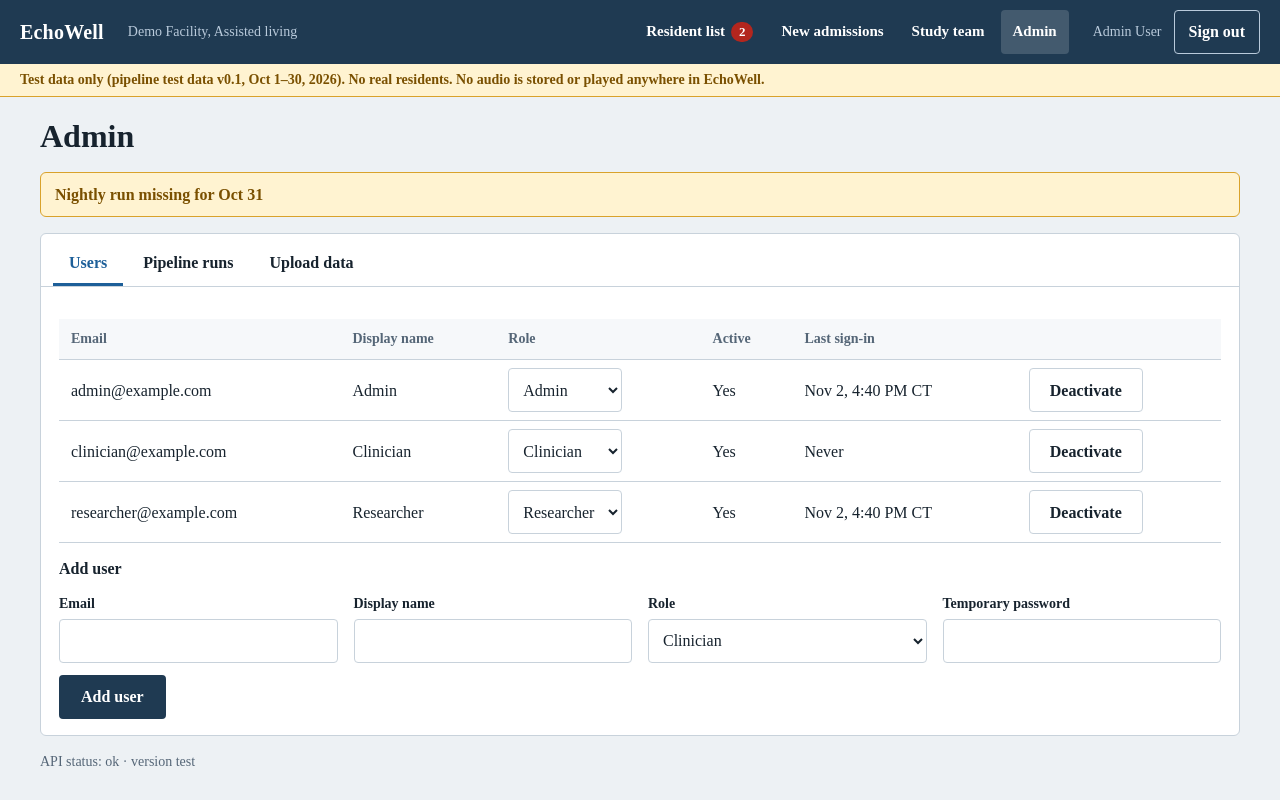
it: /admin › Users › requires every field before sending
Click the button "Add user" at (112, 697), box top-left (59, 675), bottom-right (166, 719)
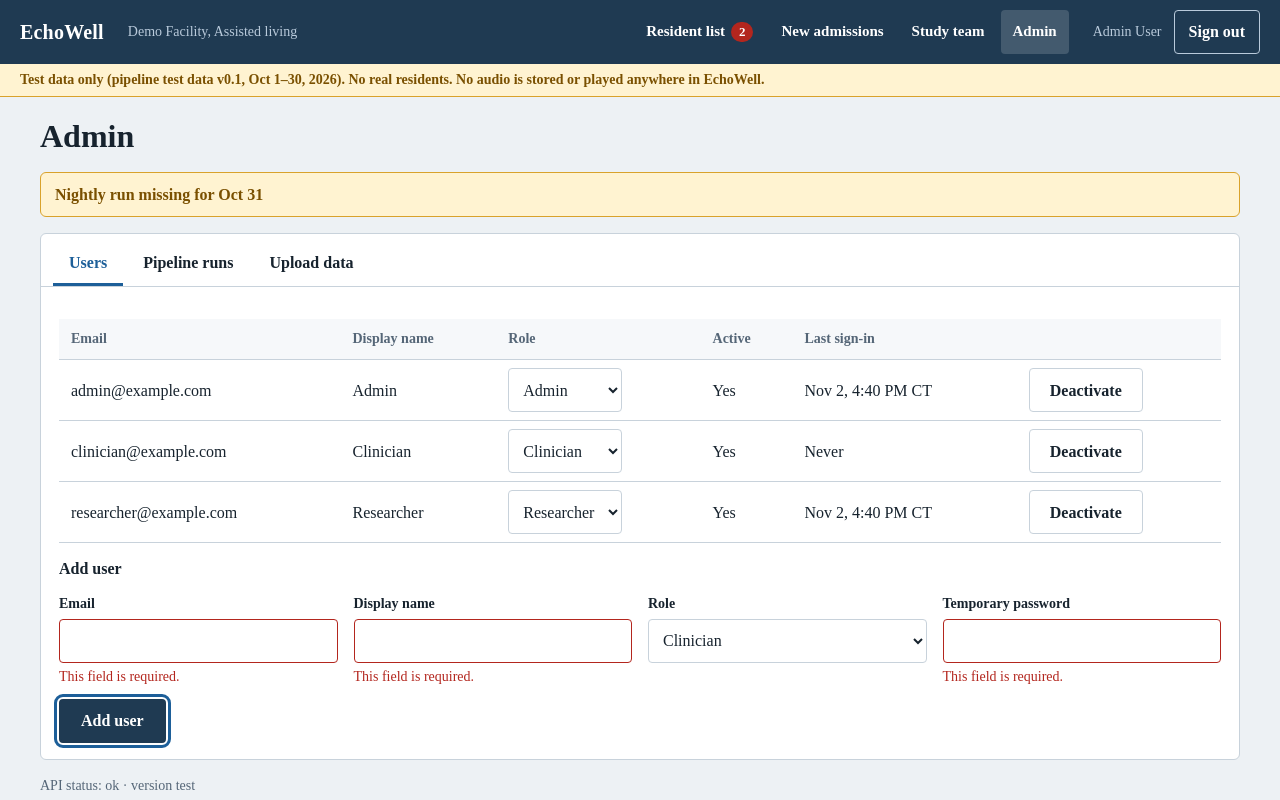
Expected: the text "This field is required." is shown 3 times, top-left (59, 669), bottom-right (180, 684); top-left (354, 669), bottom-right (474, 684); top-left (942, 669), bottom-right (1063, 684)
